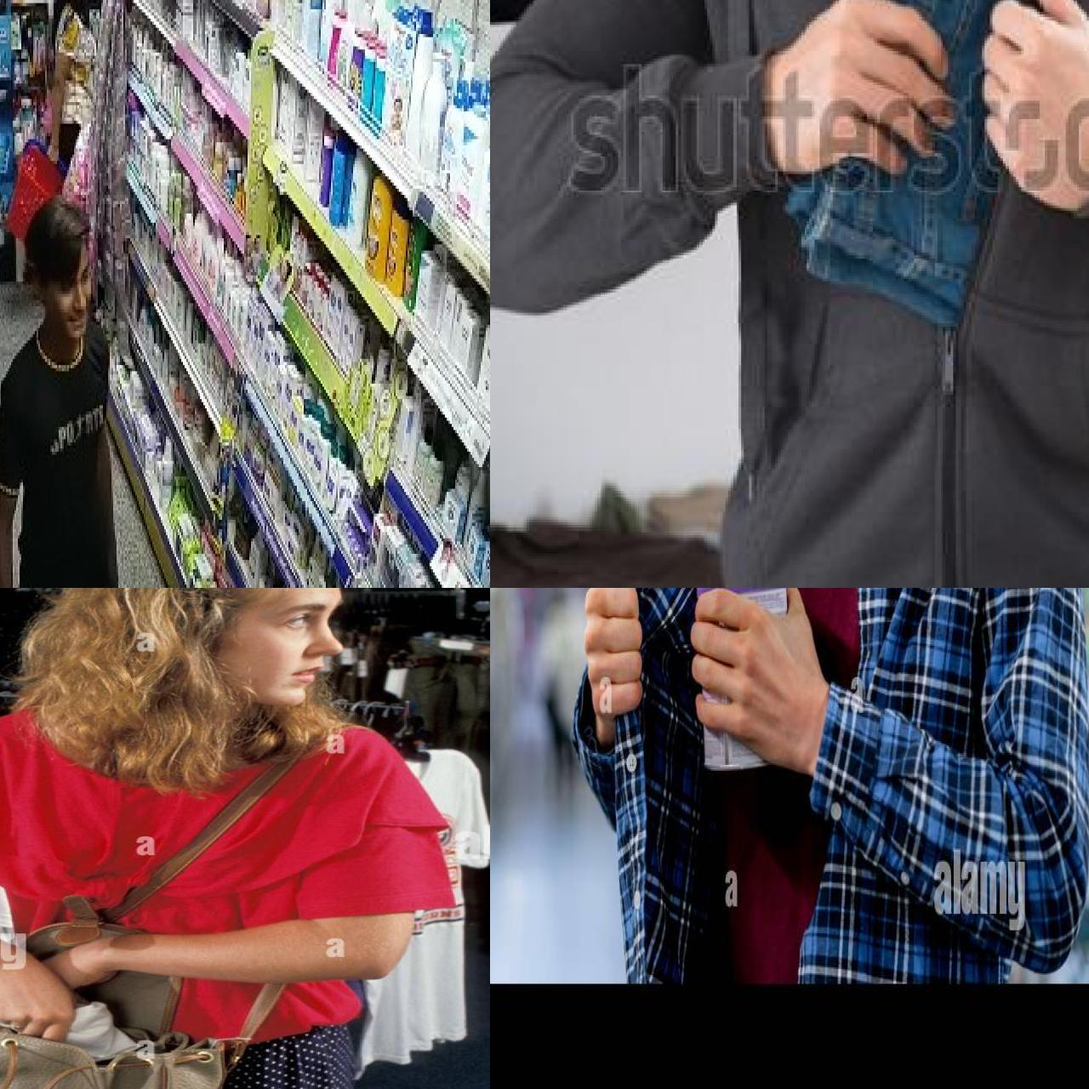shoplifting: (553, 583, 926, 942), (0, 864, 423, 1089)
